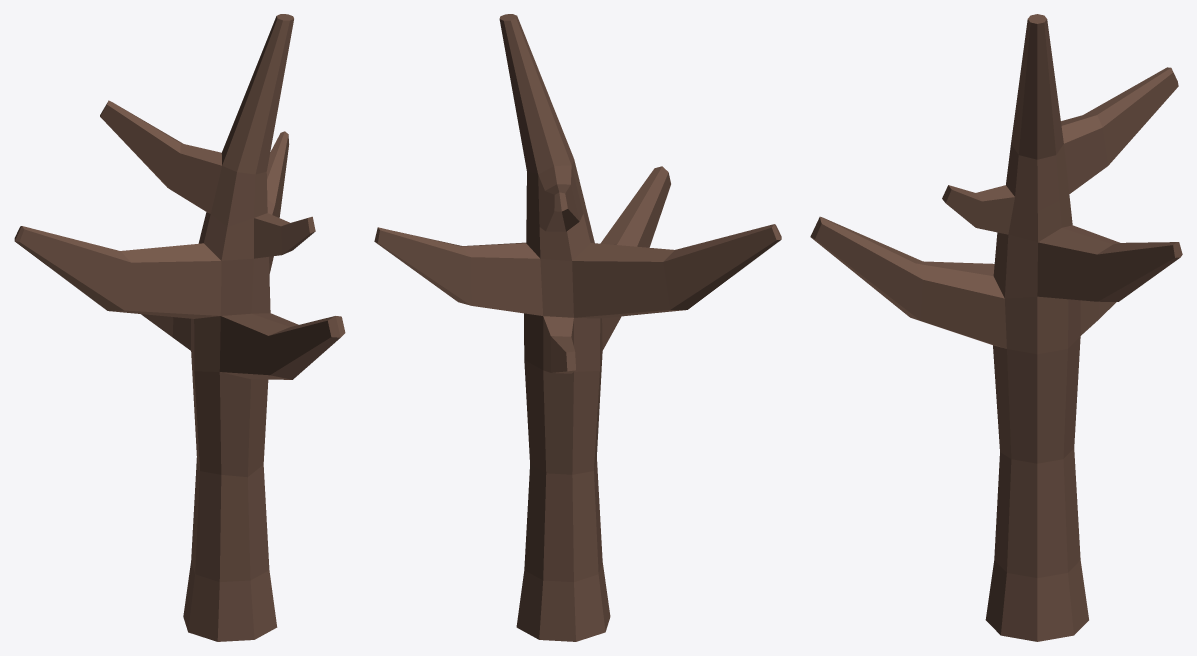
Rendered from dead_tree.glb.
The picture shows the model from 3 angles, left to right: view 1: azimuth 30°, elevation 25°; view 2: azimuth 150°, elevation 25°; view 3: azimuth 270°, elevation 25°; orthographic projection. The views are drawn at different scales.
Visible parts, largest first — view 1: Cylinder.002; view 2: Cylinder.002; view 3: Cylinder.002.
Part boxes in pixels (x1,y1,x2,y2): Cylinder.002: [14, 14, 345, 641]; Cylinder.002: [374, 14, 781, 641]; Cylinder.002: [810, 14, 1182, 641].
Size of the model in its own units: 2.22 by 3.69 by 1.98.
